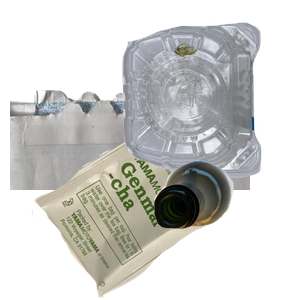glass: (151, 158, 300, 300)
paper: (10, 84, 250, 264)
plastic: (119, 20, 300, 190)
trash: (29, 124, 238, 300)
